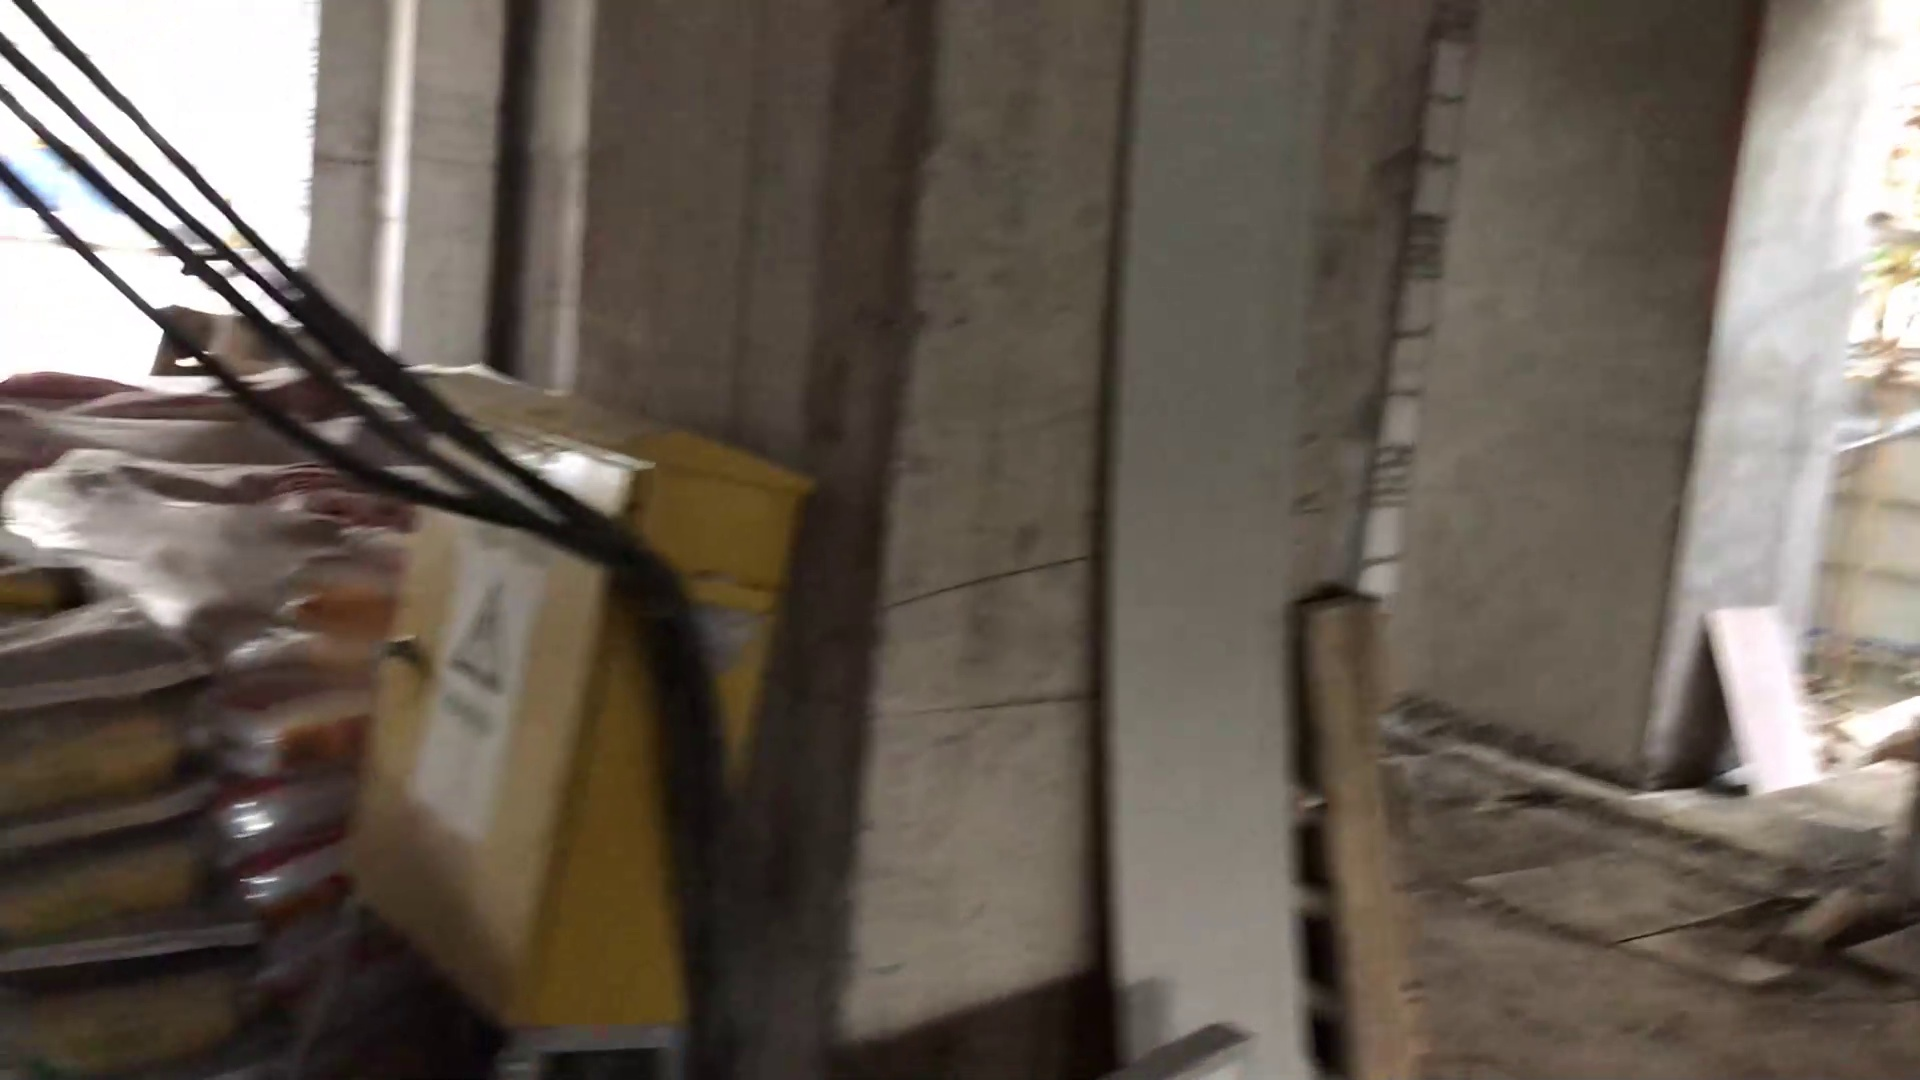ebox: (326, 334, 847, 1058)
